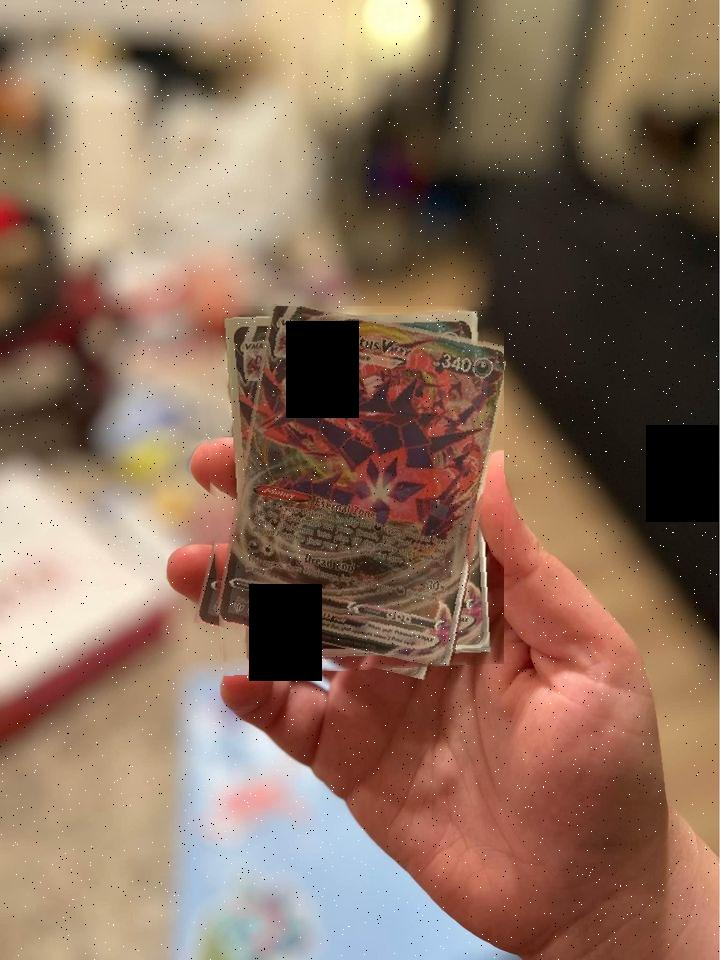card: (219, 306, 504, 668)
